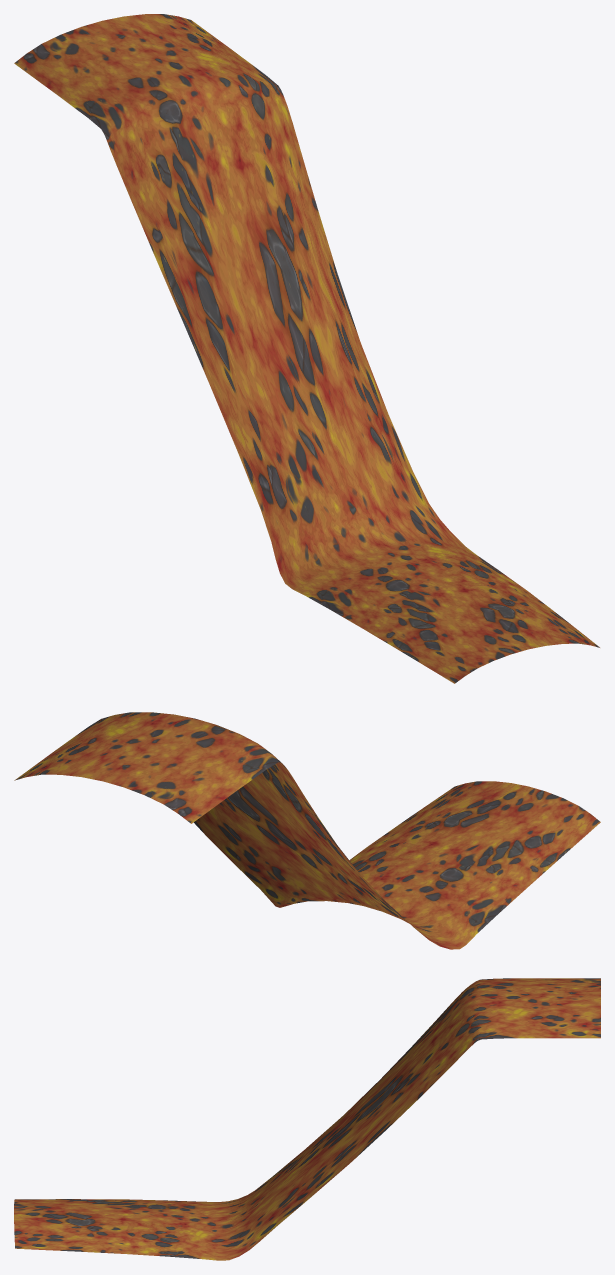
File: WaterfallsSide2.fbx
3 views of the same model, one above another, from view 1: azimuth 30°, elevation 25°; view 2: azimuth 150°, elevation 25°; view 3: azimuth 270°, elevation 25° (orthographic). The views are drawn at different scales.
Visible parts, largest first — view 1: WaterfallSide2; view 2: WaterfallSide2; view 3: WaterfallSide2.
Boxes of the visible parts, box(x1,y1,x2,y2) form: WaterfallSide2: box(14, 14, 599, 683); WaterfallSide2: box(14, 712, 600, 949); WaterfallSide2: box(14, 978, 600, 1260).
Bounding box in the file's own units: 4.84 × 8.99 × 20.11.
